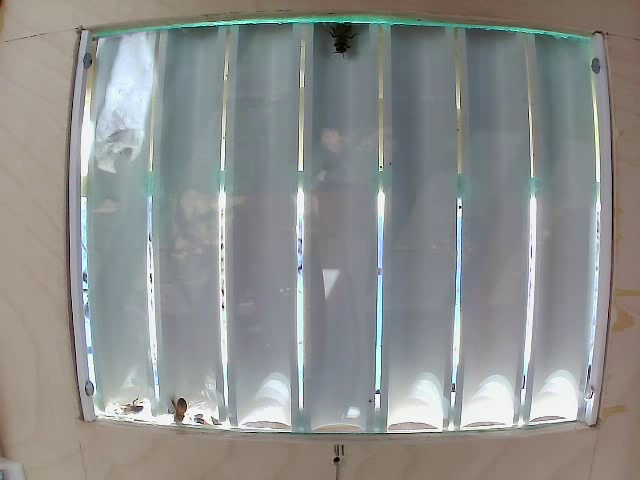bee: (317, 10, 365, 67)
